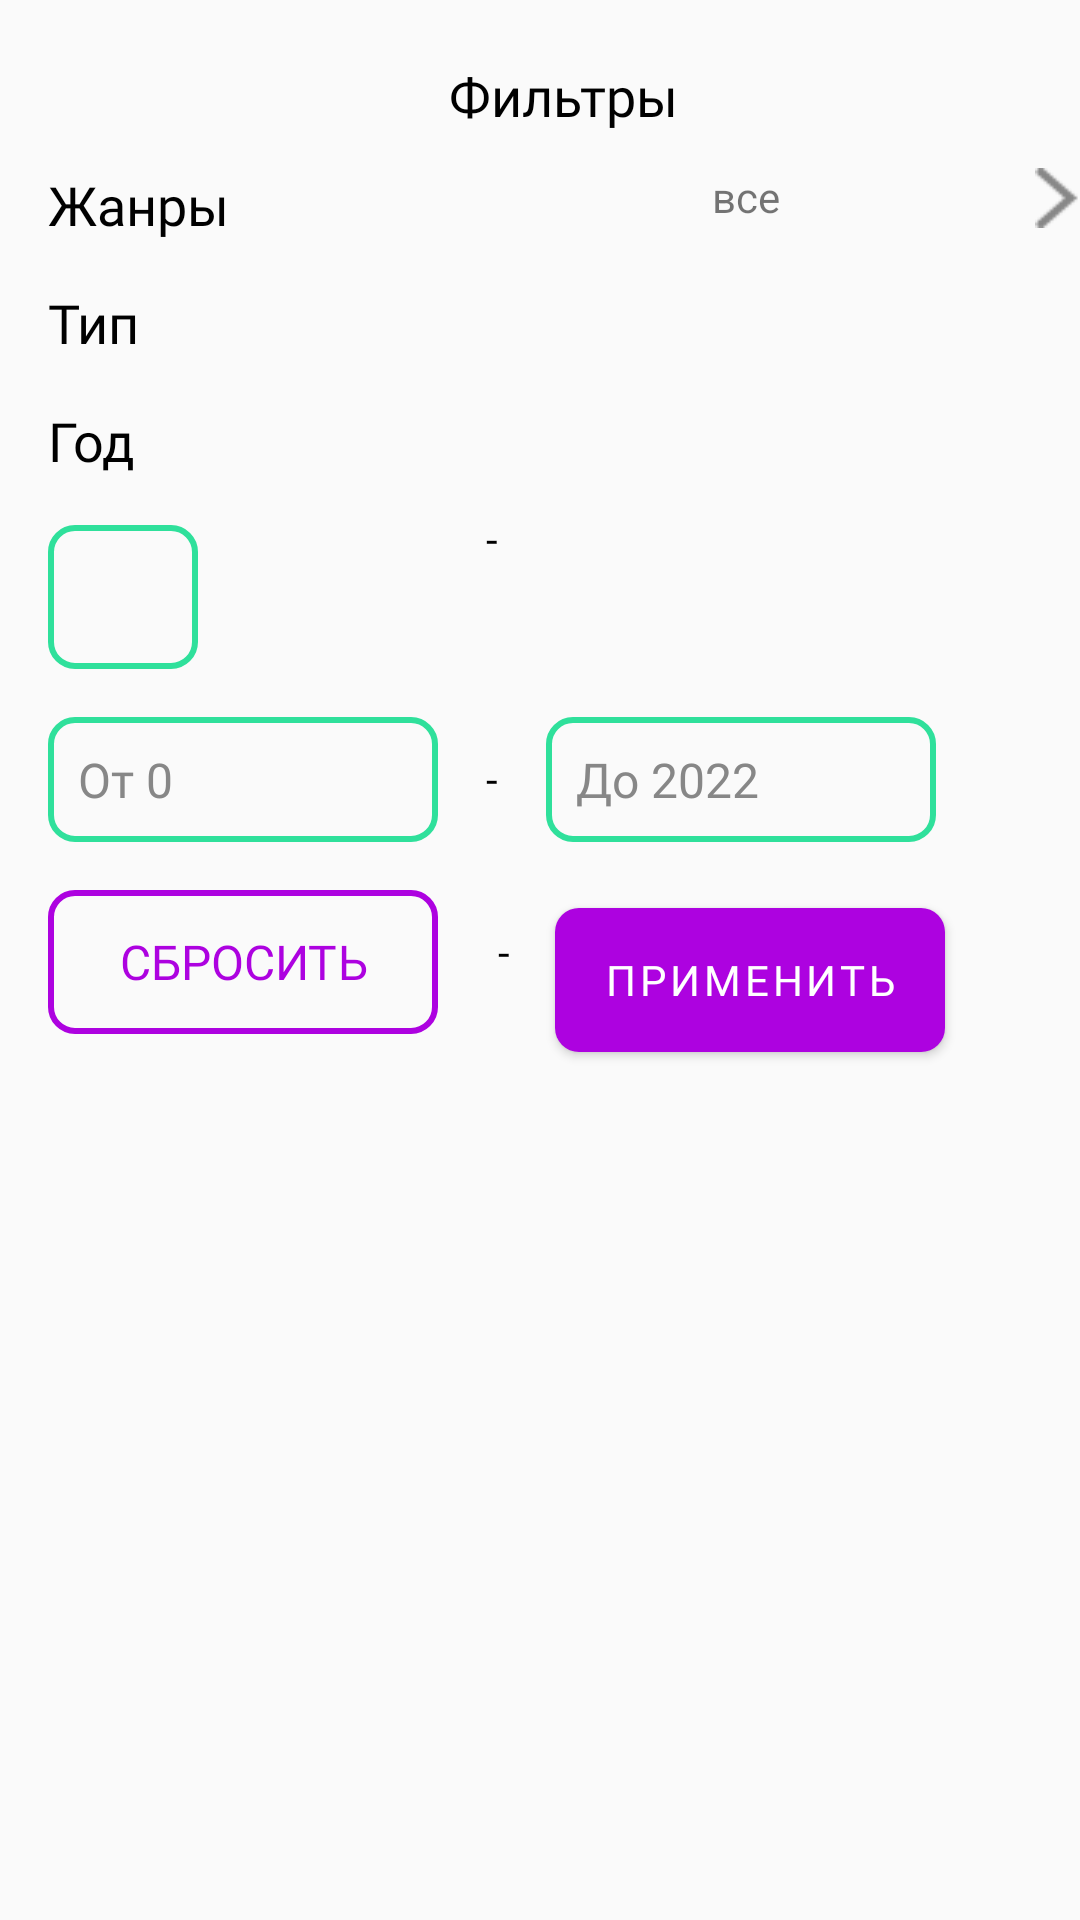

Where icons sit on this 1080px×1920px app screen, as (x1, y1, x2, y2):
next: (1035, 168, 1078, 228)
